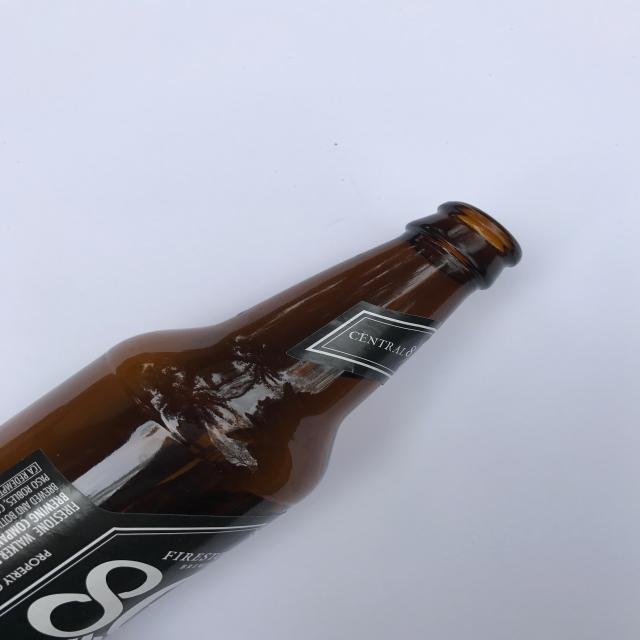glass: (0, 199, 523, 640)
